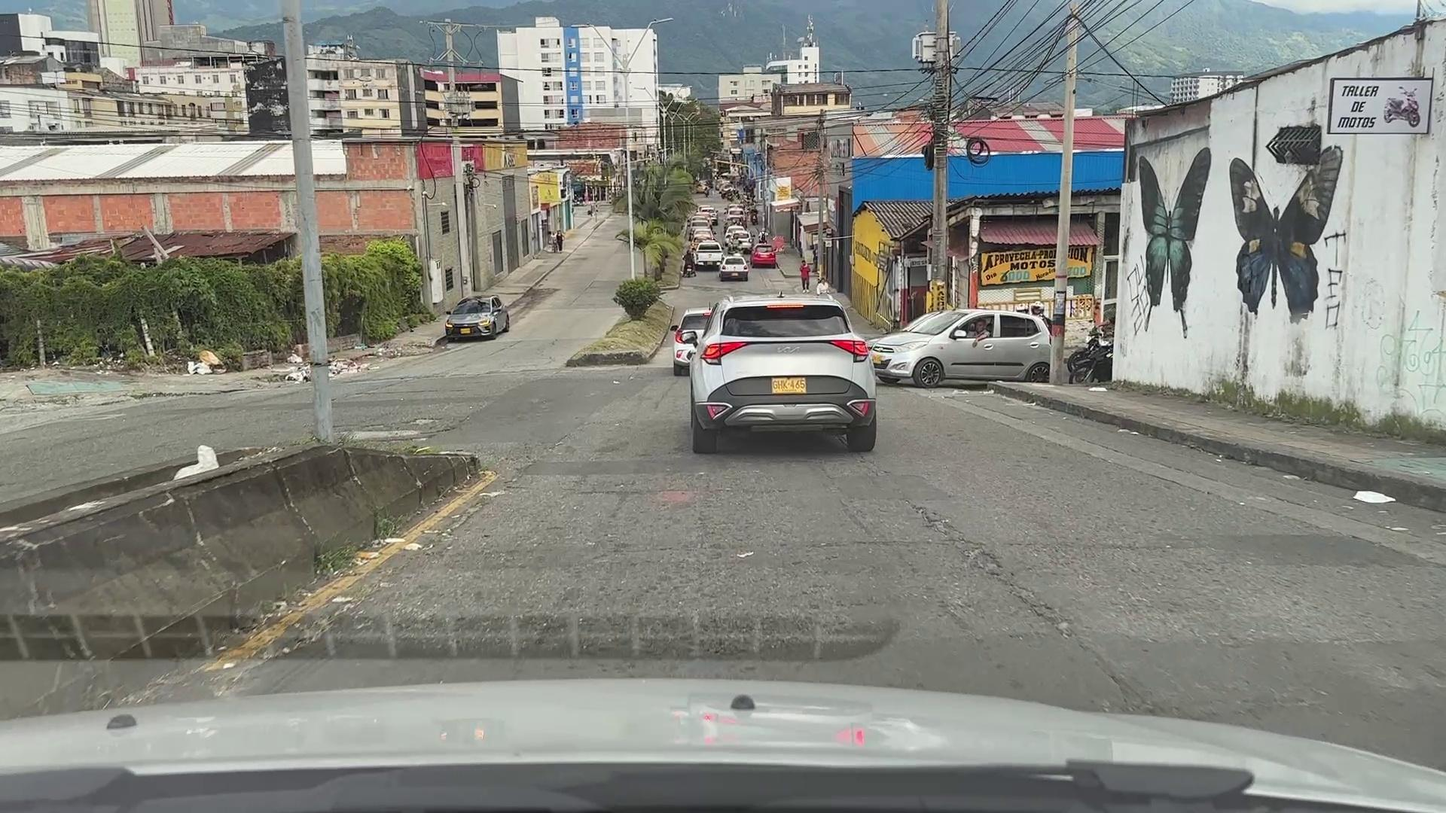bache: (342, 430, 421, 440), (404, 418, 441, 425)
grieta: (905, 500, 1144, 712)
